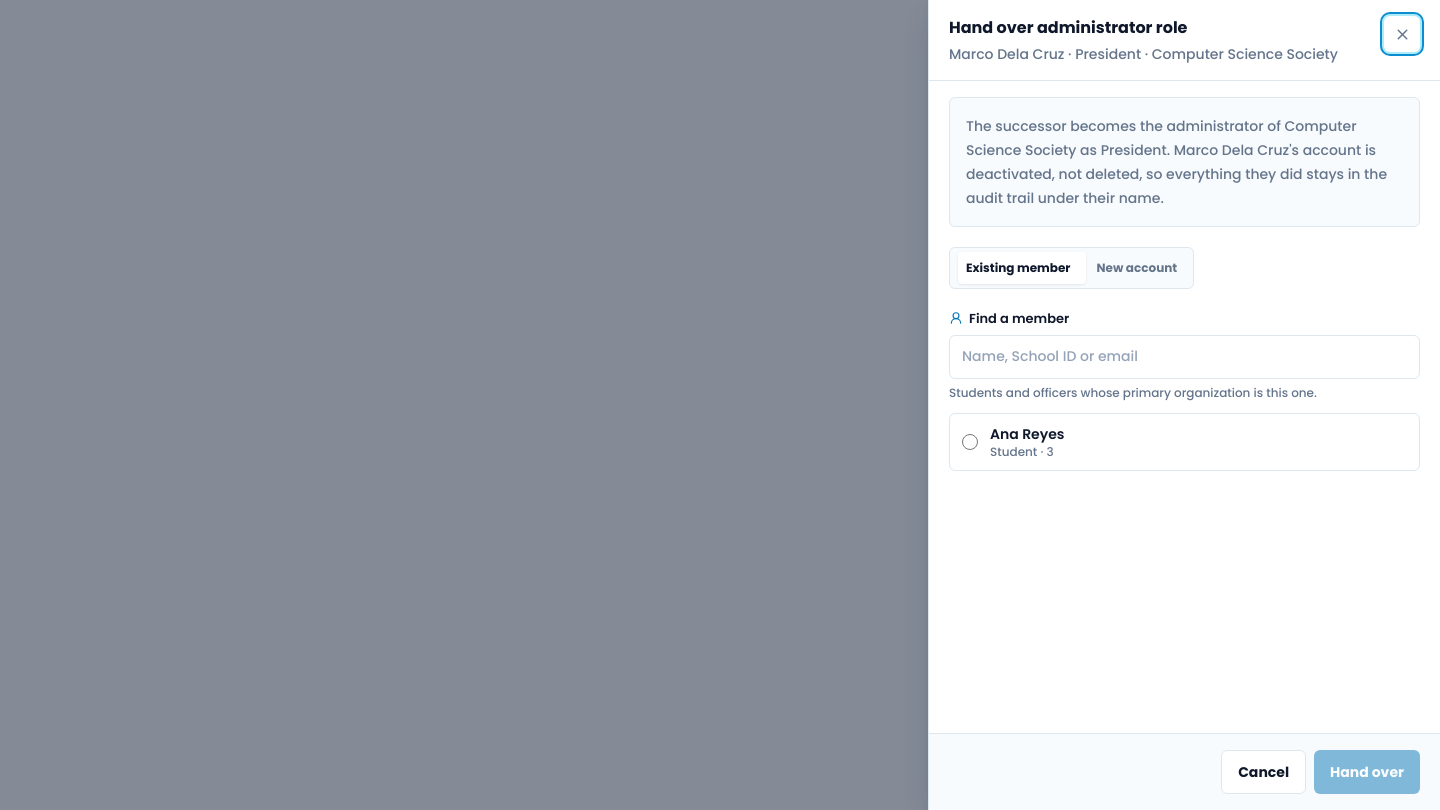
Scenario: AdminHandoverDrawer › keeps the drawer open with the server reason when a successor is refused
Click the radio button labelled "Ana Reyes Student · 3". click: {"x": 970, "y": 442}
box: x1=962 y1=434 x2=978 y2=450
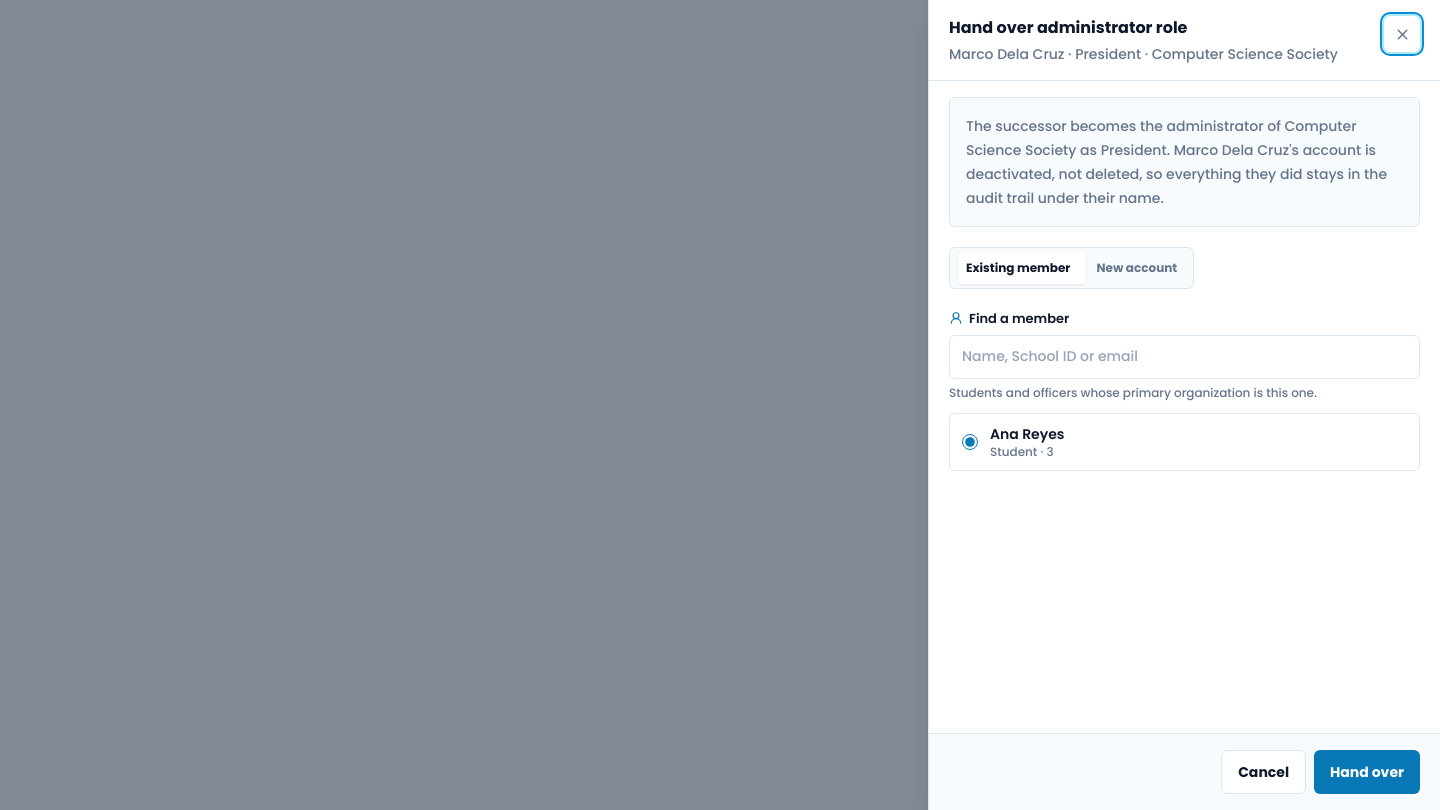
Click the button "Hand over". click: {"x": 1367, "y": 772}
box: x1=1314 y1=750 x2=1420 y2=794
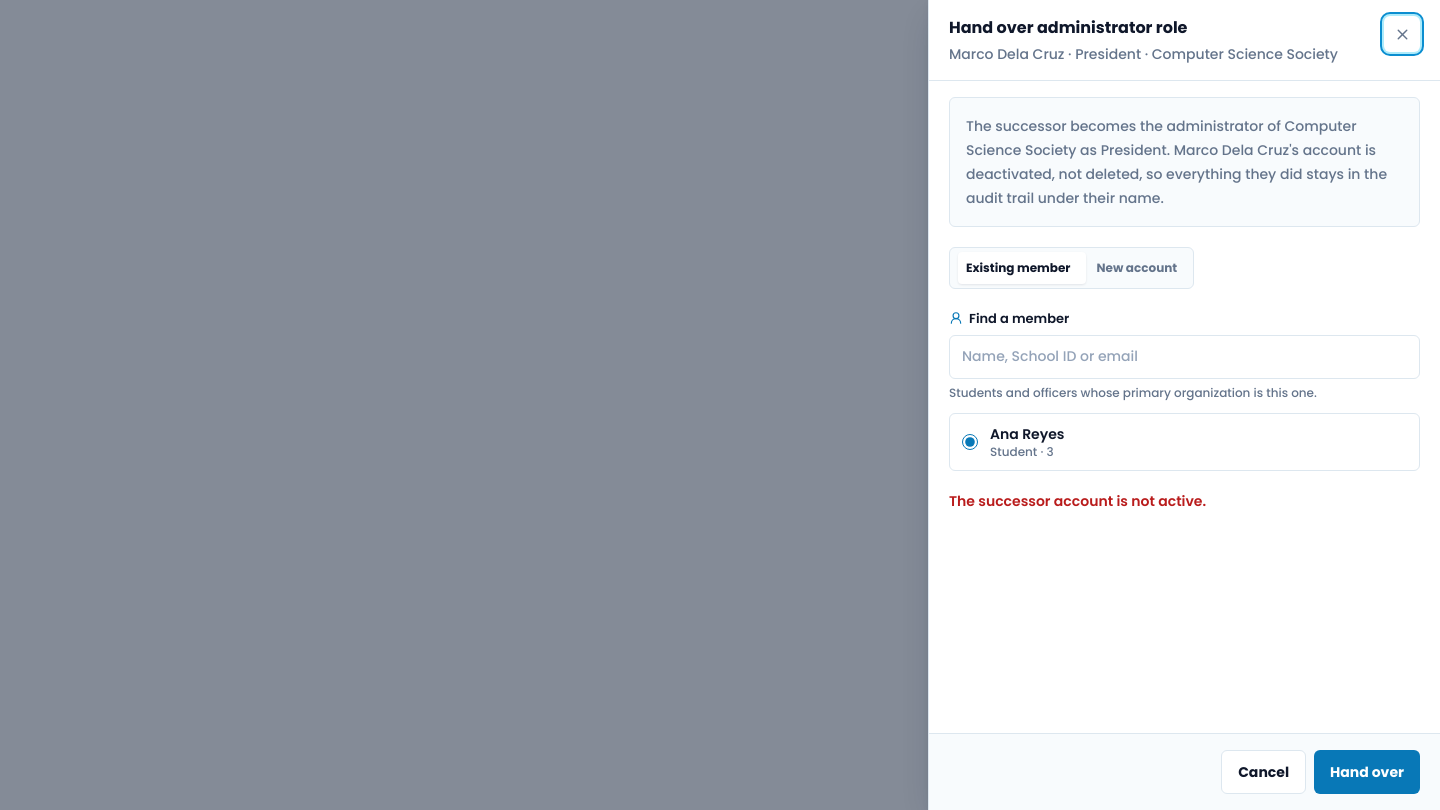
Now the message reads "The successor account is not active.", box x1=949 y1=490 x2=1206 y2=510
